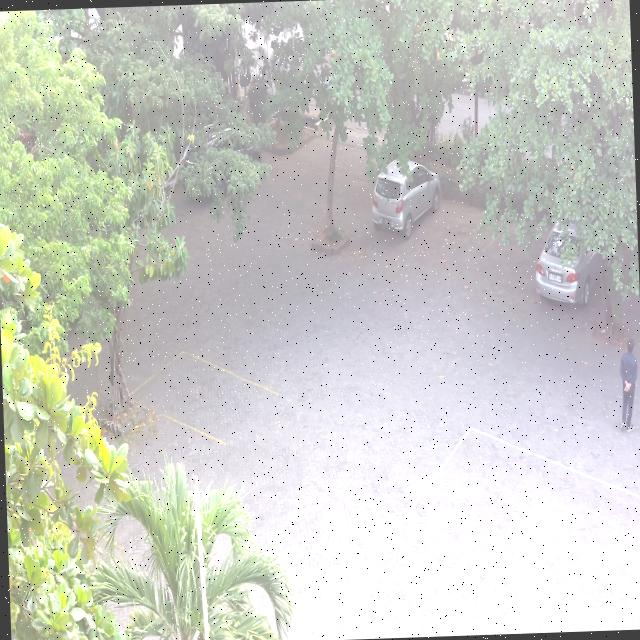empty: (128, 349, 276, 443)
